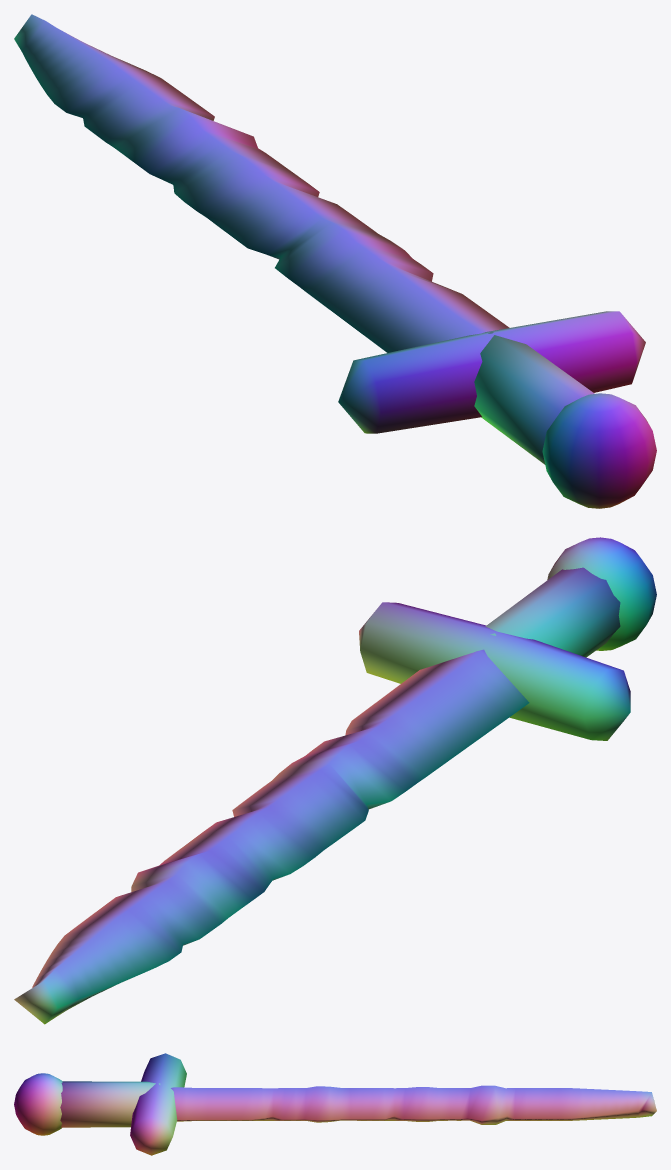
The model's file is SM_NPCKit_Prop_SwordNotched.fbx.
The picture shows the model from 3 angles, top to bottom: view 1: azimuth 30°, elevation 25°; view 2: azimuth 150°, elevation 25°; view 3: azimuth 270°, elevation 25°; orthographic projection. The views are drawn at different scales.
Parts seen in each view (by area): view 1: SM_NPCKit_Prop_SwordNotched; view 2: SM_NPCKit_Prop_SwordNotched; view 3: SM_NPCKit_Prop_SwordNotched.
Part boxes in pixels (bbox=[...]): SM_NPCKit_Prop_SwordNotched: bbox=[14, 14, 656, 508]; SM_NPCKit_Prop_SwordNotched: bbox=[14, 537, 656, 1024]; SM_NPCKit_Prop_SwordNotched: bbox=[14, 1053, 656, 1155].
Size of the model in its own units: 0.259 by 0.0896 by 0.9192.
